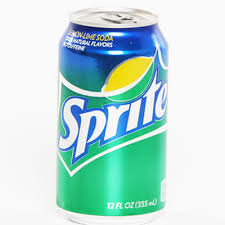can: (52, 3, 176, 225)
